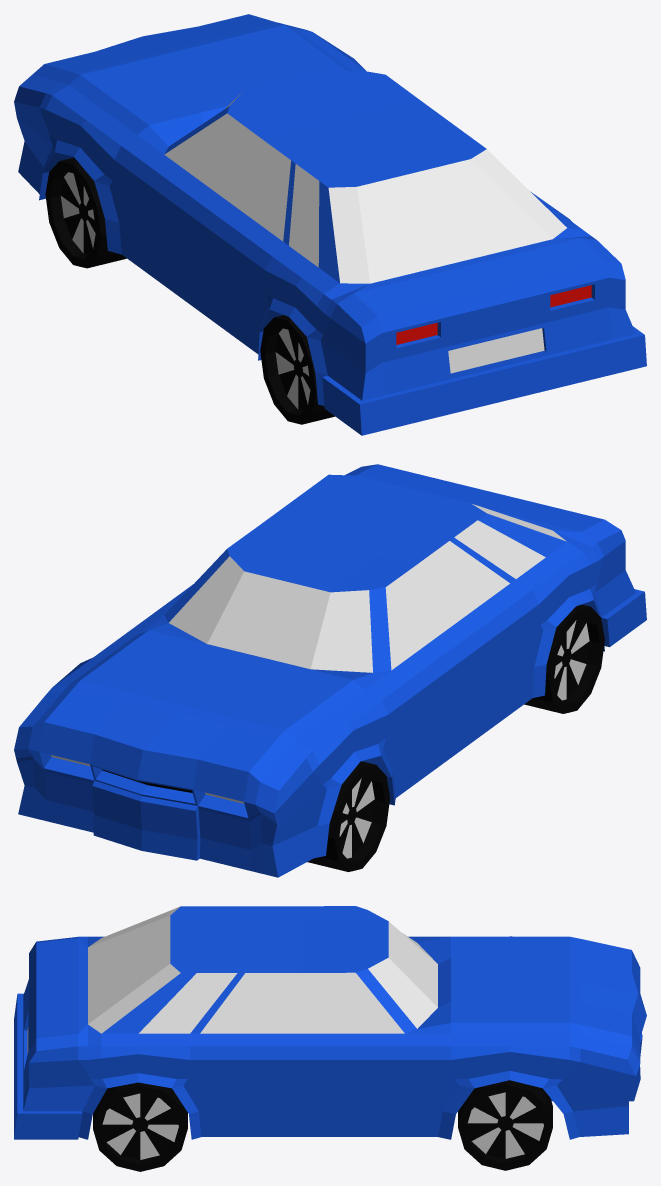
The model's file is auto2.fbx.
3 views of the same model, one above another, from view 1: azimuth 30°, elevation 25°; view 2: azimuth 150°, elevation 25°; view 3: azimuth 270°, elevation 25° (orthographic). The views are drawn at different scales.
Parts seen in each view (by area): view 1: Cube; view 2: Cube; view 3: Cube.
Boxes of the visible parts, x1,y1,x2,y2 form: Cube: [14, 14, 646, 435]; Cube: [14, 464, 646, 877]; Cube: [14, 906, 646, 1171].
Bounding box in the file's own units: 562 × 371 × 1227.
